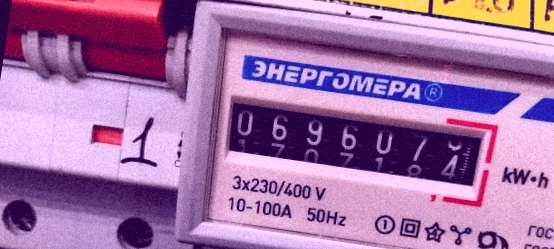0: (232, 106, 257, 139), (373, 126, 396, 157)
4: (437, 150, 460, 182)
6: (337, 120, 361, 154), (268, 111, 291, 143)
7: (407, 130, 429, 163)
9: (302, 116, 326, 148)
screen: (209, 77, 502, 210)
